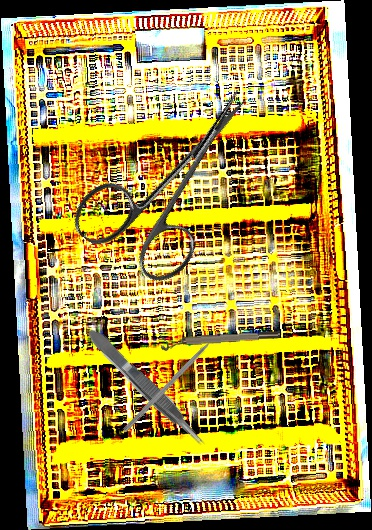Chopper: (122, 328, 229, 438)
Fixation Ring: (160, 328, 281, 352)
Iris Scissors: (65, 55, 289, 297)
Tissue Forceps: (83, 322, 211, 454)
